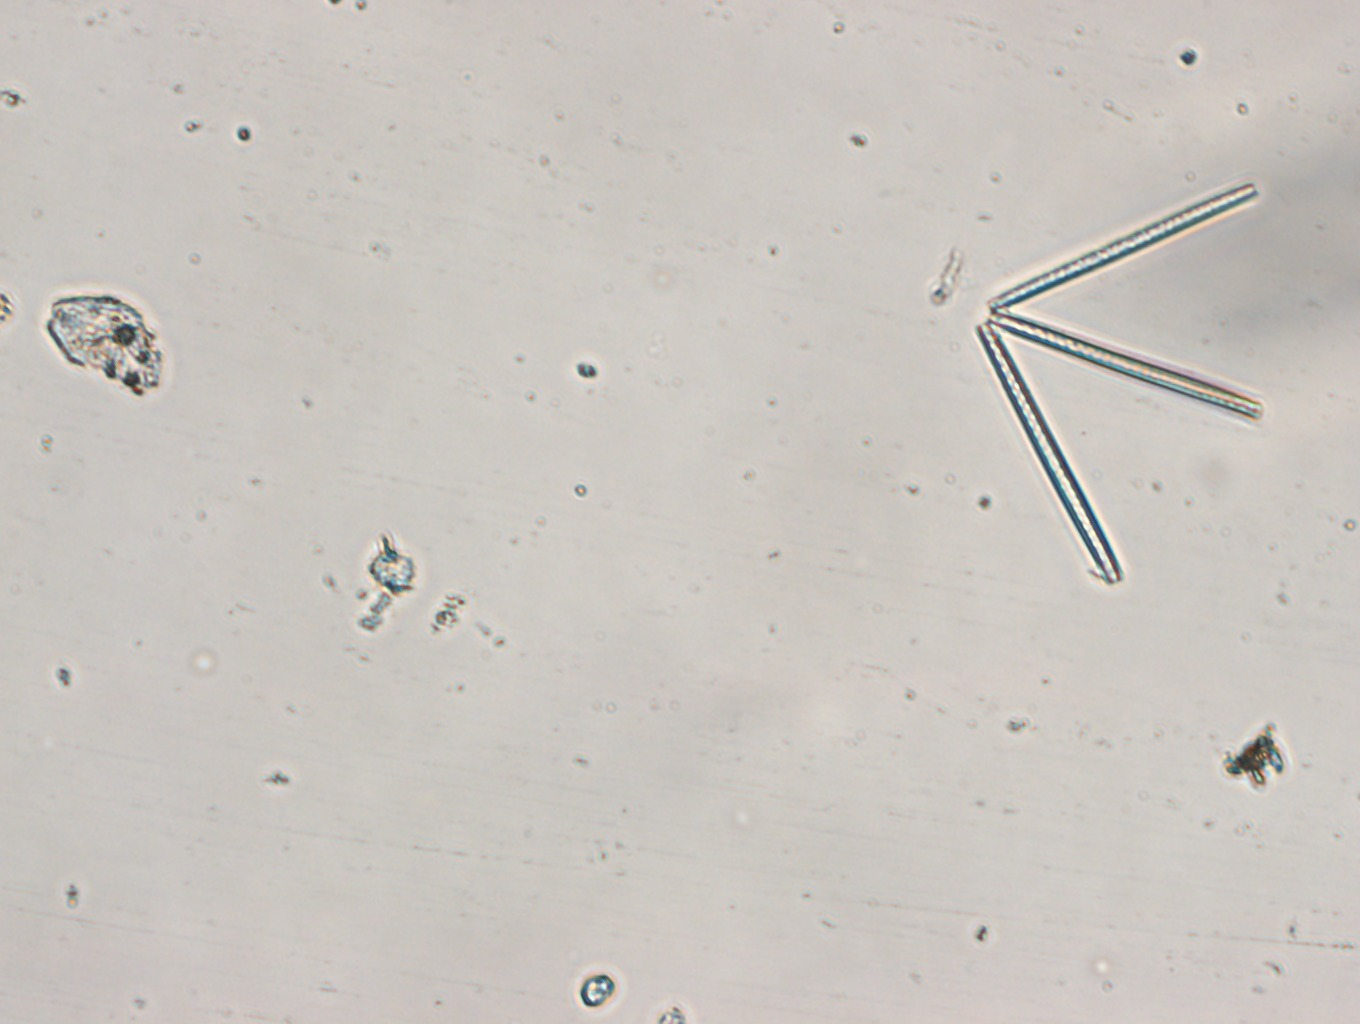thalassionema frauenfeldii: (959, 183, 1286, 598)
